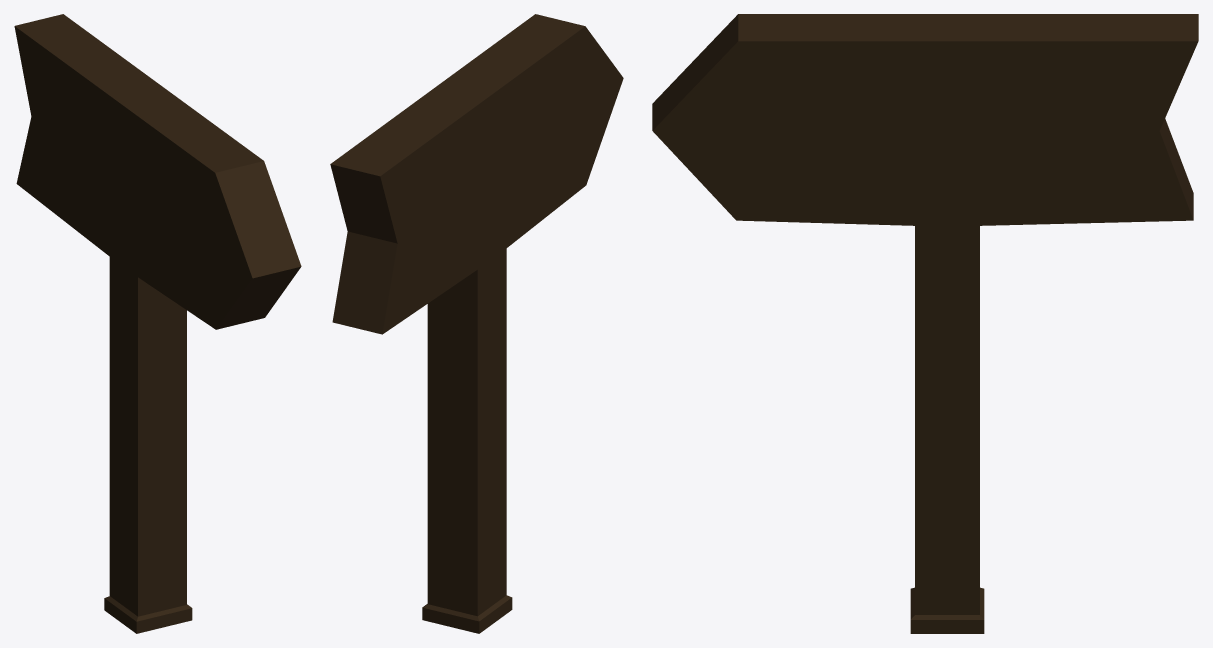
File: panneau.fbx
3 views of the same model, side by side, from view 1: azimuth 30°, elevation 25°; view 2: azimuth 150°, elevation 25°; view 3: azimuth 270°, elevation 25° (orthographic). The views are drawn at different scales.
Parts seen in each view (by area): view 1: Panneau; view 2: Panneau; view 3: Panneau.
Part boxes in pixels (x1,y1,x2,y2): Panneau: (14,14,301,633); Panneau: (330,14,623,633); Panneau: (652,14,1198,633).
Bounding box in the file's own units: 66.18 × 583 × 489.
